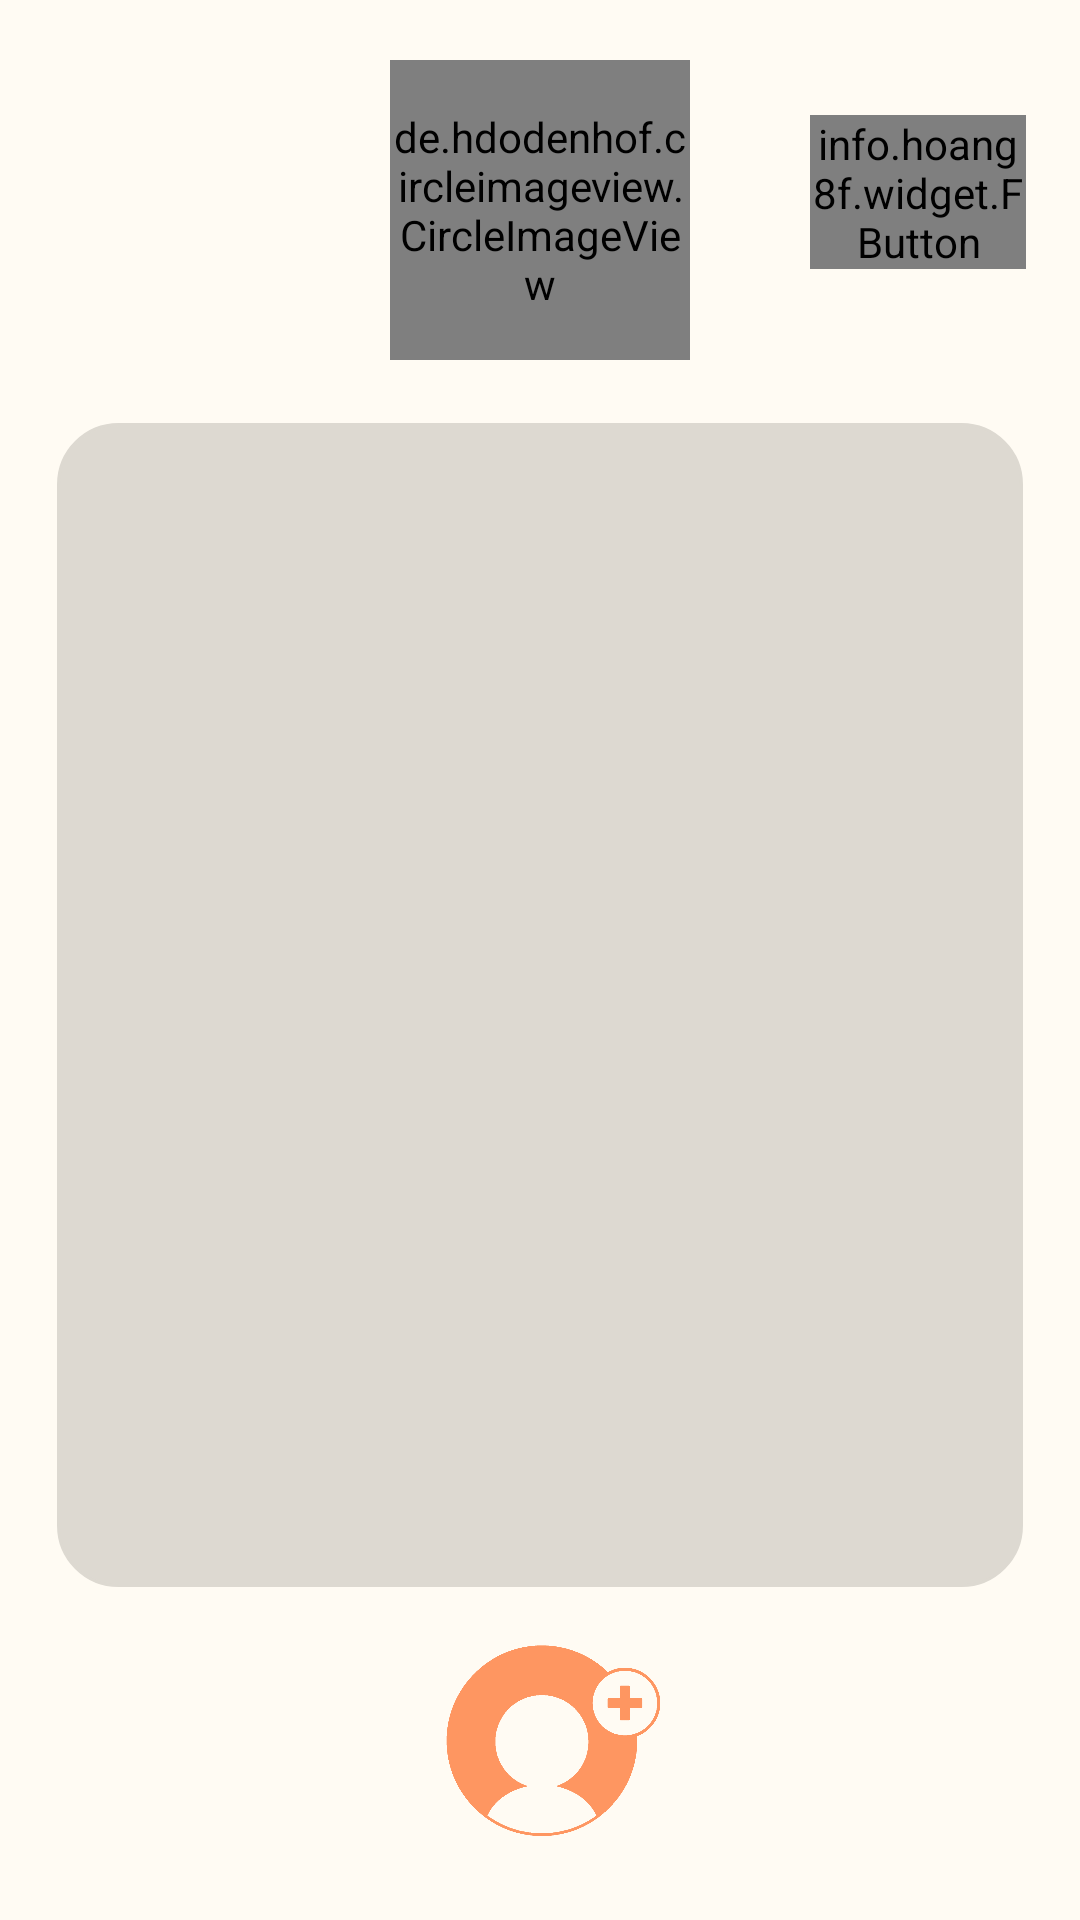

Locate icon controls on the screen. Image size 1080 × 1920, boxes as (x1, y1, x2, y2).
addbtn: (446, 1645, 660, 1836)
